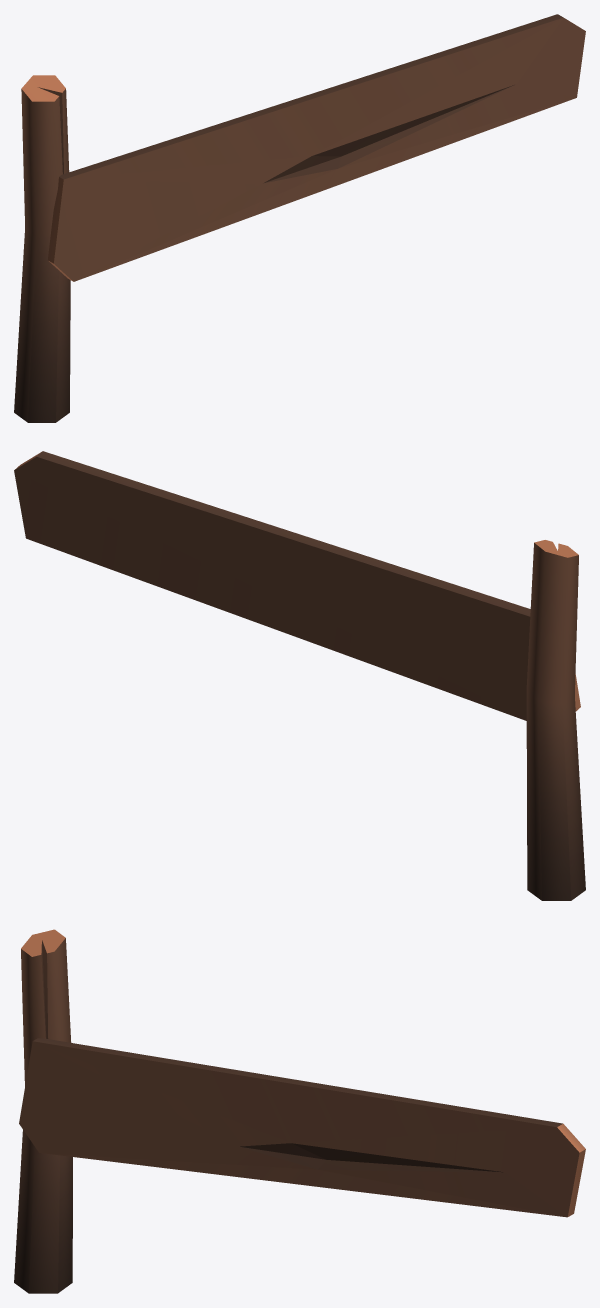
The model's file is Fence_1B_Part_1.fbx.
The picture shows the model from 3 angles, top to bottom: view 1: azimuth 30°, elevation 25°; view 2: azimuth 150°, elevation 25°; view 3: azimuth 330°, elevation 25°; orthographic projection. The views are drawn at different scales.
Parts seen in each view (by area): view 1: Fence_1B_Part_1; view 2: Fence_1B_Part_1; view 3: Fence_1B_Part_1.
Boxes of the visible parts, x1,y1,x2,y2 form: Fence_1B_Part_1: (14,14,585,422); Fence_1B_Part_1: (14,451,585,900); Fence_1B_Part_1: (14,929,585,1293).
Size of the model in its own units: 209 by 120 by 21.09.
